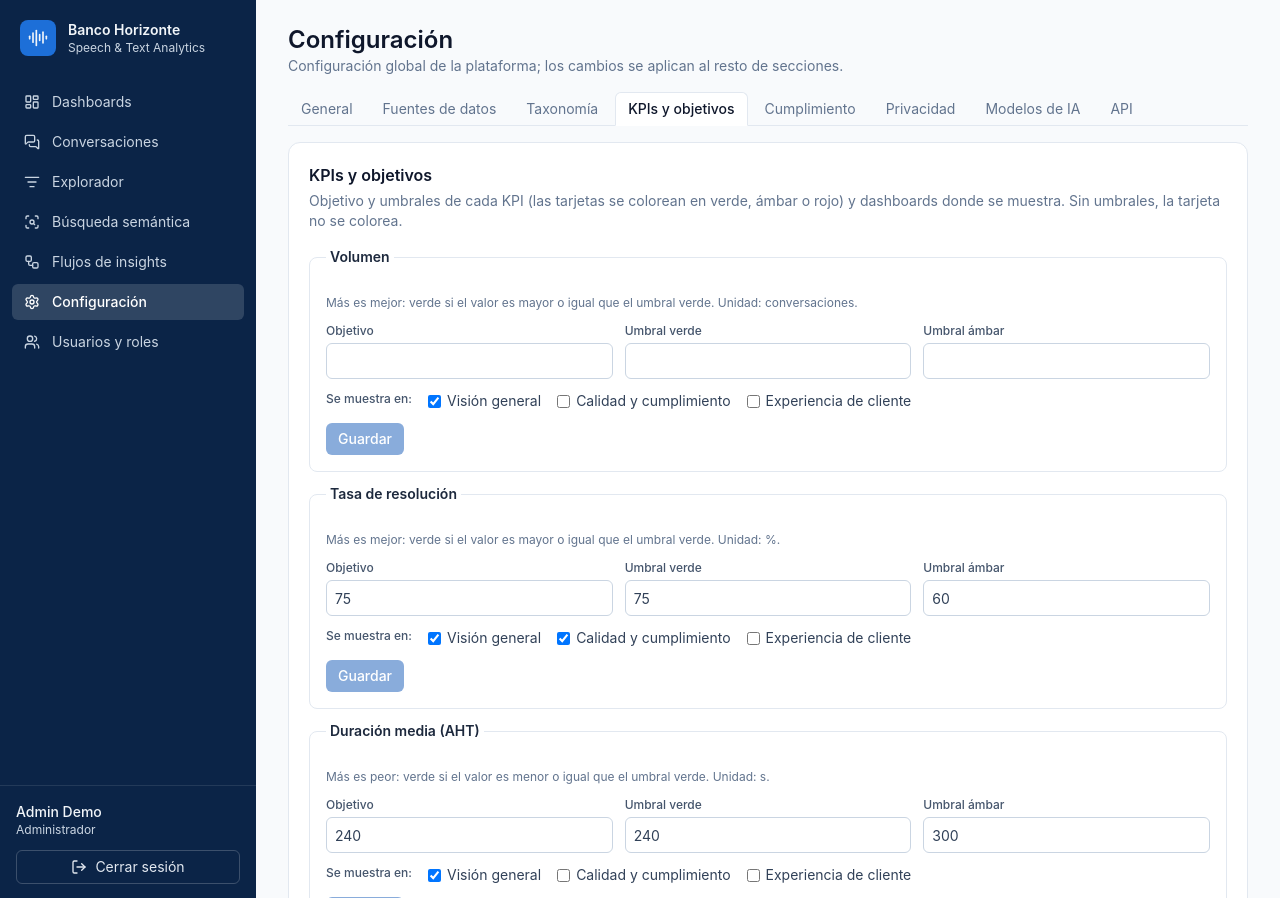
it: Configuración: KPIs y objetivos › un umbral vacío se envía como null y un umbral incoherente muestra su error
The width and height of the screenshot is (1280, 898).
Clear the field labelled "Objetivo" below "Tasa de resolución" at (469, 598), box left=326, top=580, right=613, bottom=616
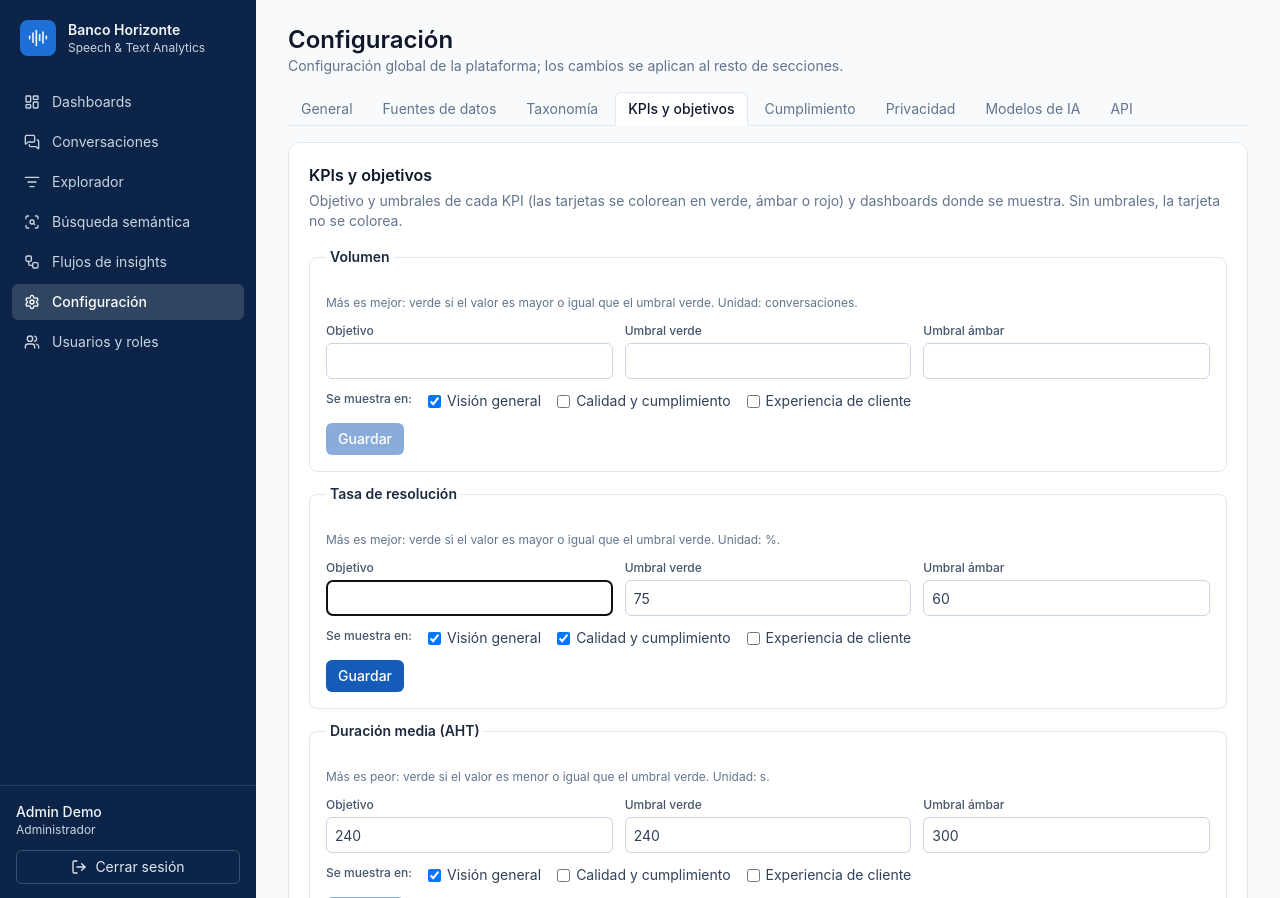
Click the button "Guardar" below "Tasa de resolución" at (365, 676), box left=326, top=660, right=404, bottom=692
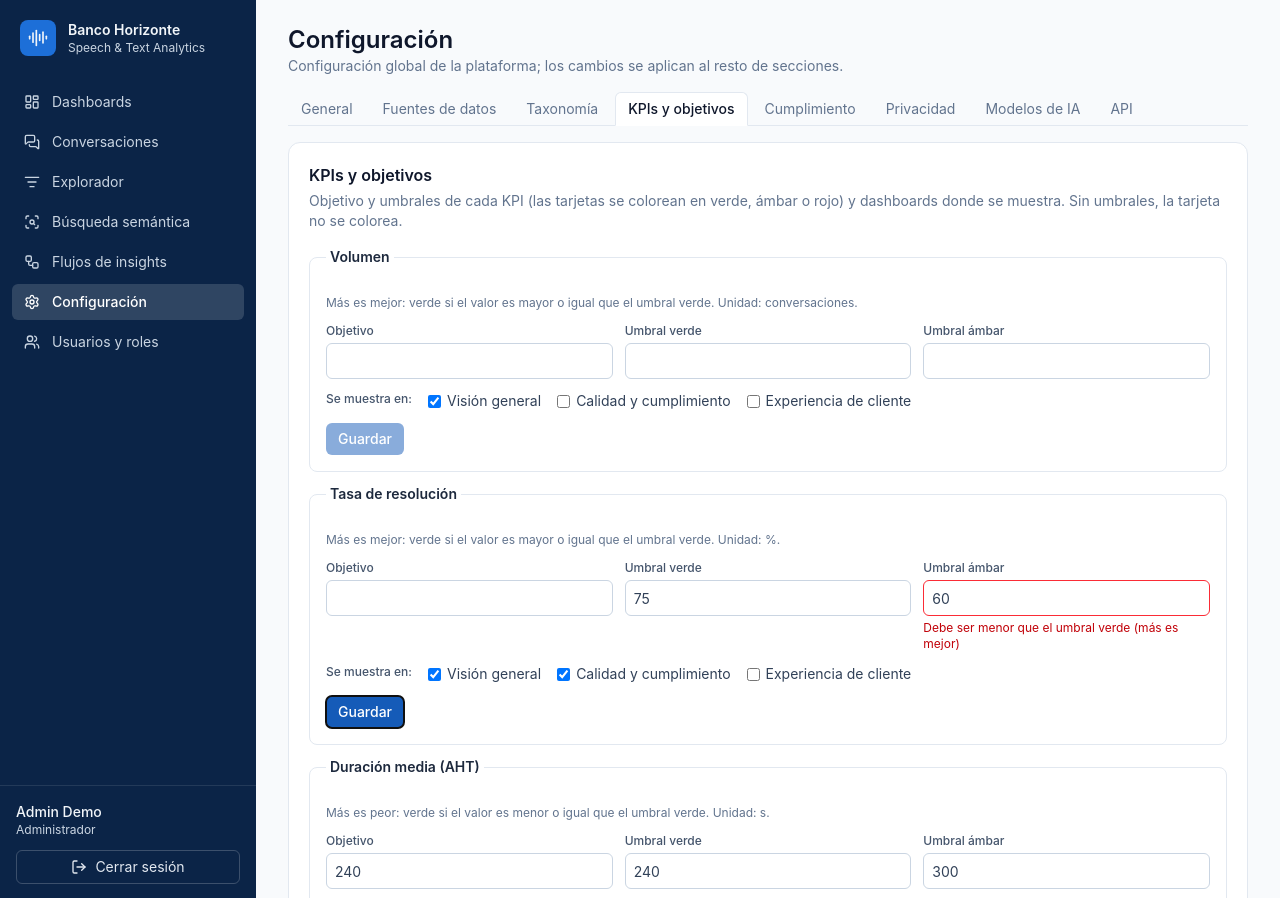
Check: the text "Debe ser menor que el umbral verde (más es mejor)" is shown, box left=923, top=620, right=1210, bottom=652
